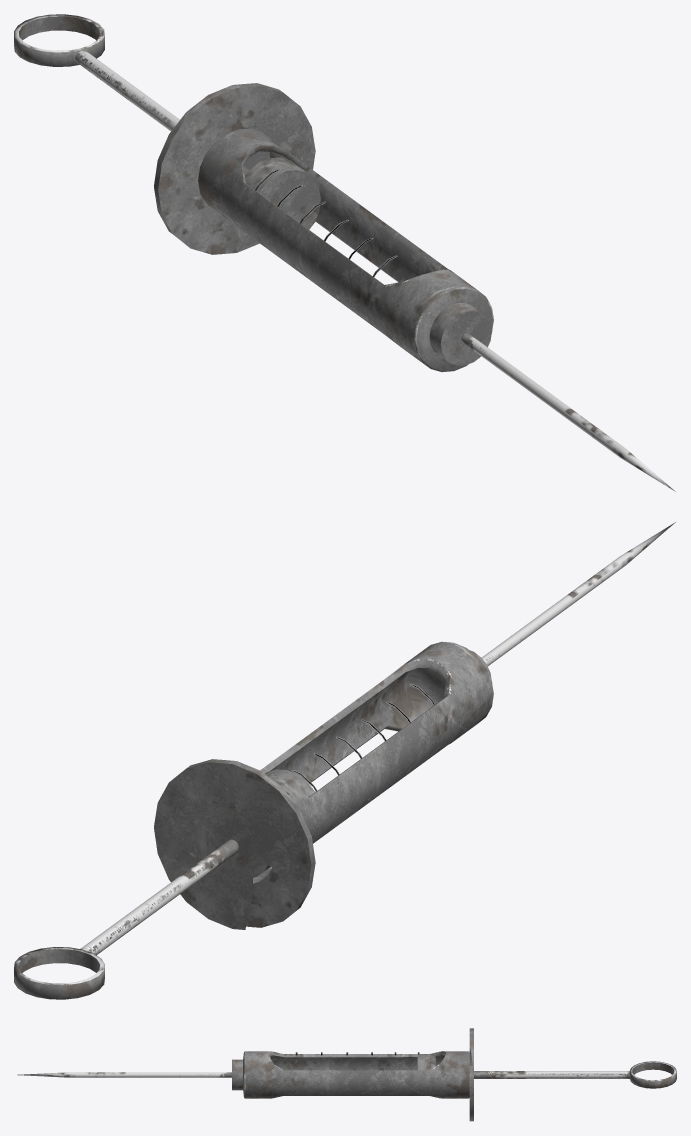
The model's file is SELFREVIVE.fbx.
3 views of the same model, one above another, from view 1: azimuth 30°, elevation 25°; view 2: azimuth 150°, elevation 25°; view 3: azimuth 270°, elevation 25° (orthographic). The views are drawn at different scales.
Parts seen in each view (by area): view 1: g; view 2: g; view 3: g.
Part boxes in pixels (x1,y1,x2,y2): g: (14,14,675,491); g: (14,522,675,999); g: (17,1028,676,1121).
Bounding box in the file's own units: 28.42 × 28.42 × 200.
